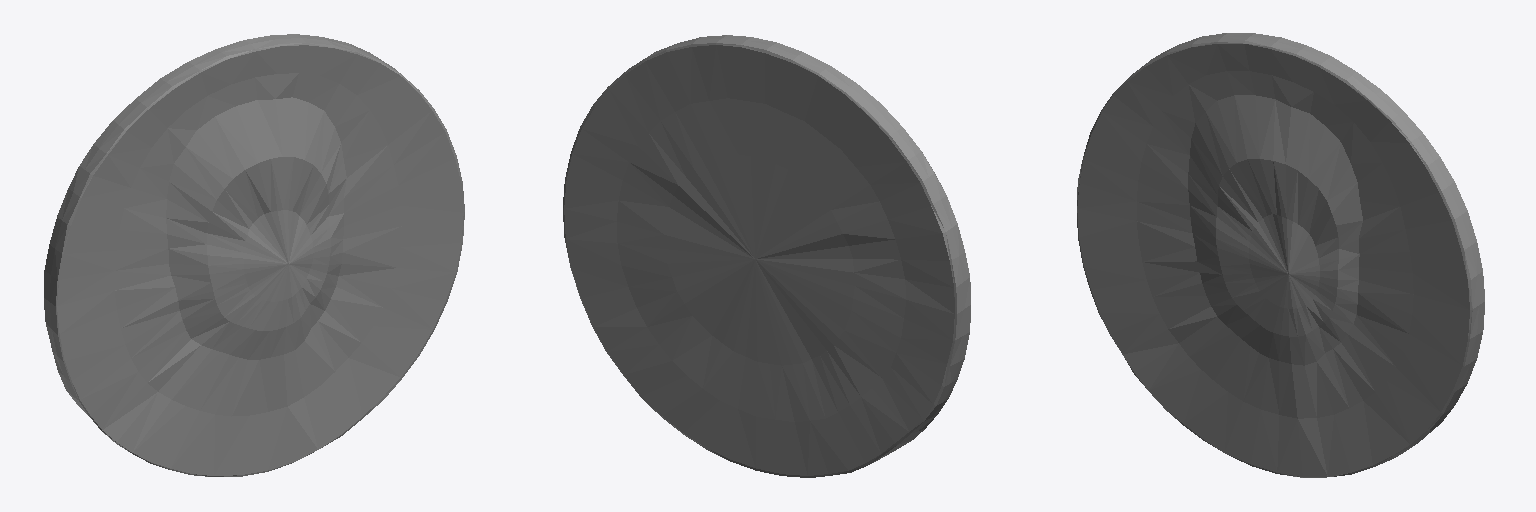
File: jinianzhang.obj
3 views of the same model, side by side, from view 1: azimuth 30°, elevation 25°; view 2: azimuth 150°, elevation 25°; view 3: azimuth 330°, elevation 25° (orthographic).
Parts seen in each view (by area): view 1: ??????????; view 2: ??????????; view 3: ??????????.
Boxes of the visible parts, x1=… form: ??????????: x1=44, y1=34, x2=464, y2=476; ??????????: x1=563, y1=35, x2=970, y2=477; ??????????: x1=1077, y1=33, x2=1484, y2=477.
Size of the model in its own units: 75.68 by 76.04 by 7.86.